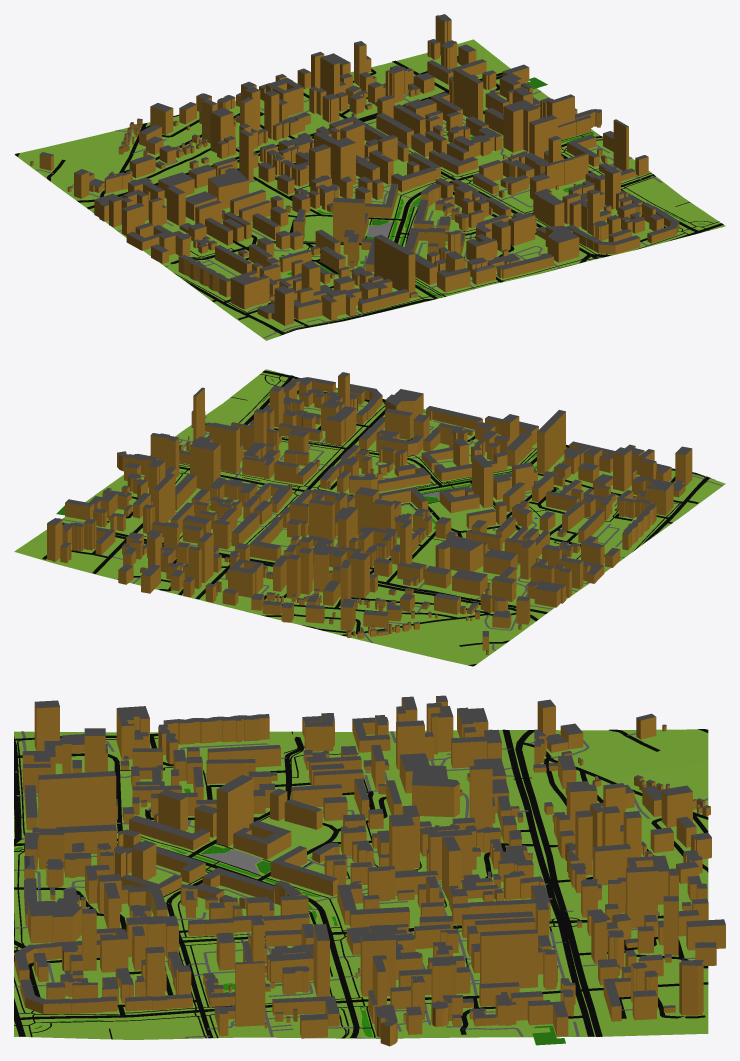
The model's file is tile_05_05.glb.
3 views of the same model, one above another, from view 1: azimuth 30°, elevation 25°; view 2: azimuth 150°, elevation 25°; view 3: azimuth 270°, elevation 25° (orthographic). The views are drawn at different scales.
Visible parts, largest first — view 1: Ub_small.osm_buildings_05_05, Terrain_05_05, Ub_small.osm_paths_footway_05_05, Ub_small.osm_roads_service_05_05, Ub_small.osm_roads_residential_05_05, Ub_small.osm_roads_secondary_05_05, Ub_small.osm_roads_primary_05_05, Ub_small.osm_roads_tertiary_05_05, Ub_small.osm_vegetation_05_05; view 2: Ub_small.osm_buildings_05_05, Terrain_05_05, Ub_small.osm_roads_residential_05_05, Ub_small.osm_roads_secondary_05_05, Ub_small.osm_roads_service_05_05, Ub_small.osm_paths_footway_05_05, Ub_small.osm_roads_primary_05_05, Ub_small.osm_roads_tertiary_05_05; view 3: Ub_small.osm_buildings_05_05, Terrain_05_05, Ub_small.osm_roads_primary_05_05, Ub_small.osm_roads_residential_05_05, Ub_small.osm_roads_service_05_05, Ub_small.osm_paths_footway_05_05, Ub_small.osm_roads_secondary_05_05, Ub_small.osm_roads_tertiary_05_05, Ub_small.osm_vegetation_05_05, Ub_small.osm_forest_05_05, Ub_small.osm_areas_pedestrian_05_05.
Part boxes in pixels (x1,y1,x2,y2): Ub_small.osm_buildings_05_05: (30, 14, 679, 325); Terrain_05_05: (14, 39, 725, 340); Ub_small.osm_paths_footway_05_05: (165, 122, 719, 332); Ub_small.osm_roads_service_05_05: (36, 90, 662, 338); Ub_small.osm_roads_residential_05_05: (15, 56, 665, 327); Ub_small.osm_roads_secondary_05_05: (183, 60, 701, 334); Ub_small.osm_roads_primary_05_05: (77, 72, 723, 336); Ub_small.osm_roads_tertiary_05_05: (170, 168, 654, 264); Ub_small.osm_vegetation_05_05: (287, 133, 594, 297); Ub_small.osm_buildings_05_05: (47, 372, 692, 654); Terrain_05_05: (14, 369, 725, 666); Ub_small.osm_roads_residential_05_05: (42, 390, 698, 666); Ub_small.osm_roads_secondary_05_05: (92, 375, 710, 599); Ub_small.osm_roads_service_05_05: (61, 405, 722, 650); Ub_small.osm_paths_footway_05_05: (144, 373, 706, 603); Ub_small.osm_roads_primary_05_05: (62, 370, 714, 621); Ub_small.osm_roads_tertiary_05_05: (205, 423, 604, 583); Ub_small.osm_buildings_05_05: (14, 695, 725, 1046); Terrain_05_05: (14, 729, 708, 1039); Ub_small.osm_roads_primary_05_05: (14, 729, 602, 1036); Ub_small.osm_roads_residential_05_05: (14, 729, 708, 1034); Ub_small.osm_roads_service_05_05: (14, 729, 708, 1038); Ub_small.osm_paths_footway_05_05: (14, 731, 579, 1039); Ub_small.osm_roads_secondary_05_05: (14, 733, 708, 1037); Ub_small.osm_roads_tertiary_05_05: (166, 736, 532, 1038); Ub_small.osm_vegetation_05_05: (14, 781, 372, 1037); Ub_small.osm_forest_05_05: (35, 845, 565, 1045); Ub_small.osm_areas_pedestrian_05_05: (201, 849, 262, 874).
Bounding box in the file's own units: 1013 × 97.5 × 954.
